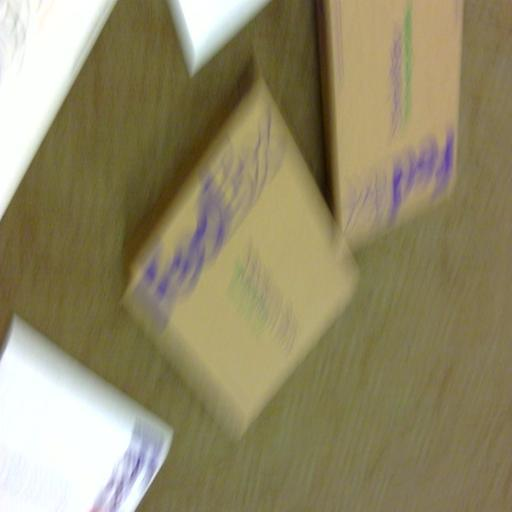Amazon: (142, 129, 360, 408), (307, 6, 458, 229)
